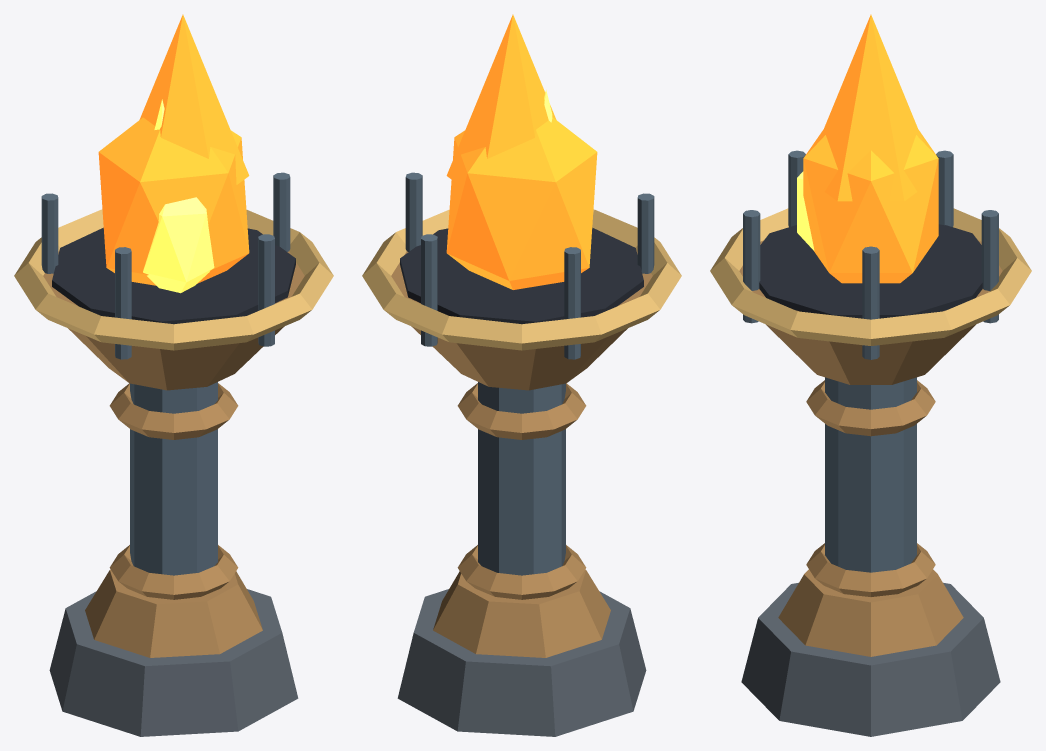
Rendered from brazier.glb.
3 views of the same model, side by side, from view 1: azimuth 30°, elevation 25°; view 2: azimuth 150°, elevation 25°; view 3: azimuth 270°, elevation 25° (orthographic).
Parts seen in each view (by area): view 1: brazier_body_mesh, brazier_flame_mesh; view 2: brazier_body_mesh, brazier_flame_mesh; view 3: brazier_body_mesh, brazier_flame_mesh.
Boxes of the visible parts, x1,y1,x2,y2 form: brazier_body_mesh: (14, 172, 333, 736); brazier_flame_mesh: (98, 14, 249, 293); brazier_body_mesh: (362, 172, 681, 736); brazier_flame_mesh: (446, 14, 597, 289); brazier_body_mesh: (710, 150, 1031, 736); brazier_flame_mesh: (797, 14, 938, 283).
Size of the model in its own units: 0.77 by 1.78 by 0.77.
